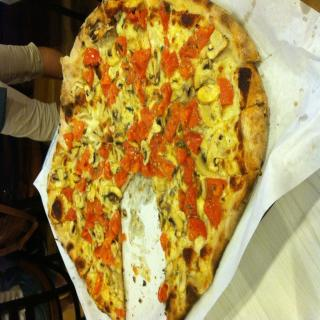Cheese: (44, 1, 243, 319)
Pizza: (42, 0, 276, 310)
